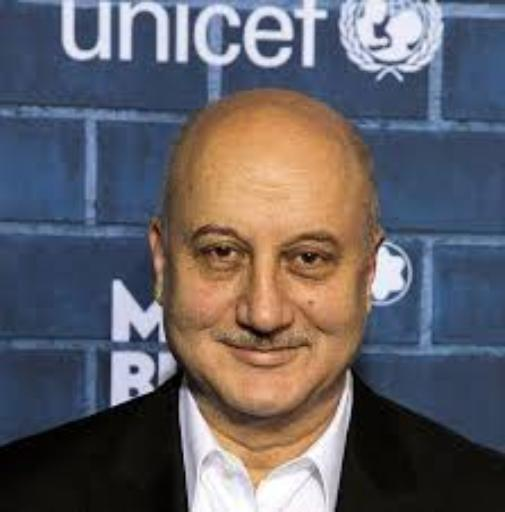left_eye: (288, 252, 338, 273)
left_lip_corner: (297, 339, 315, 357)
right_eye: (197, 247, 246, 267)
right_lip_corner: (216, 338, 239, 356)
